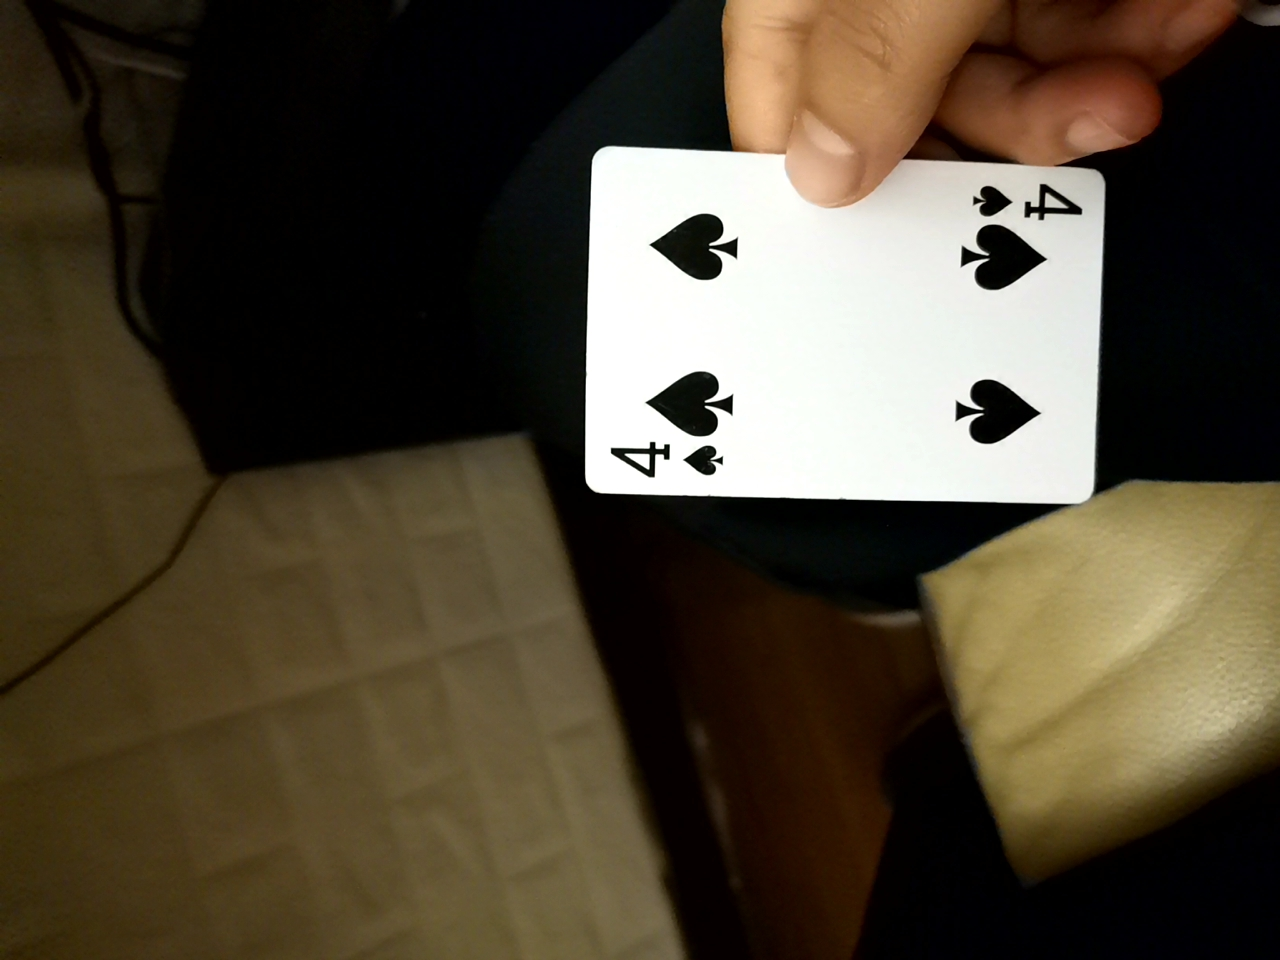ht 4: (570, 130, 1119, 508)
